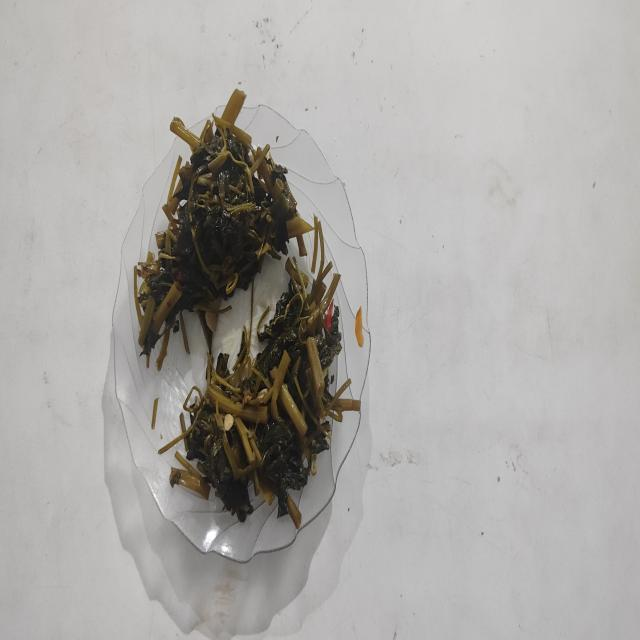tumis_kangkung: (134, 90, 314, 367), (186, 258, 360, 528)
